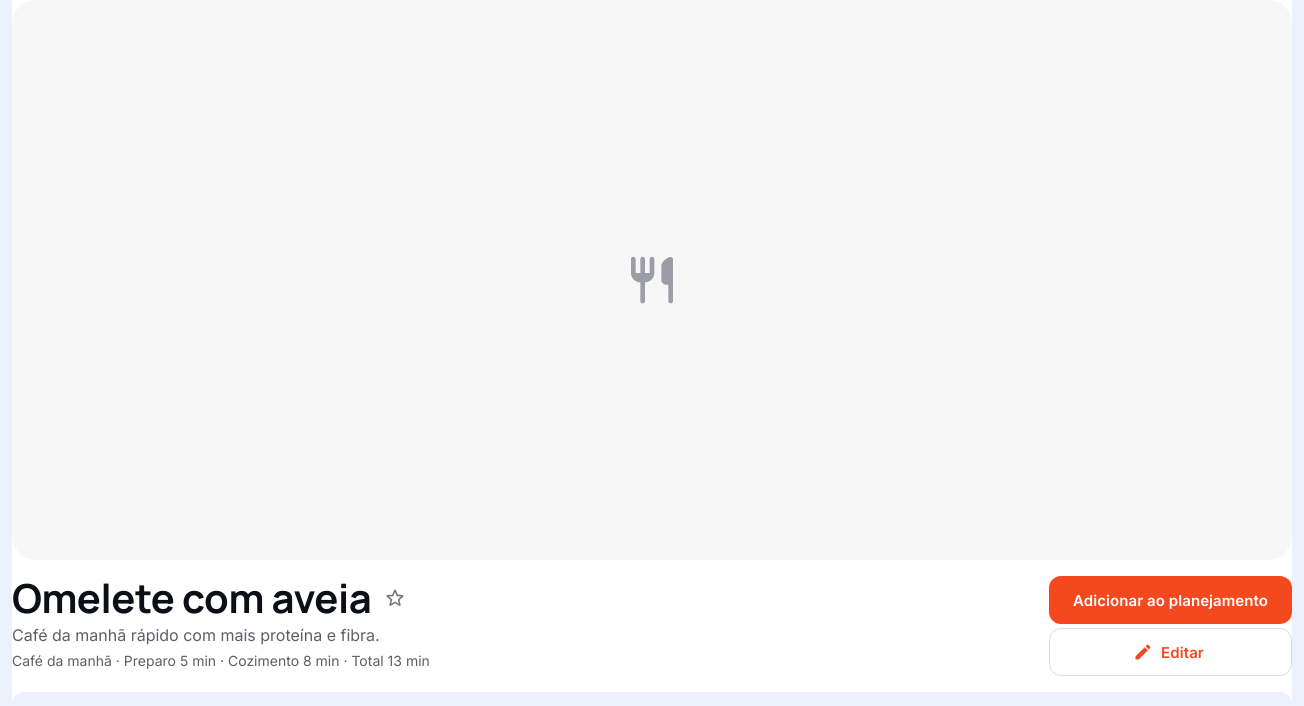
Test case: RecipeDetailPage › toggles favorite
expect the heading "Omelete com aveia" is shown: met, box x1=12 y1=576 x2=372 y2=621
Click the button named "Favoritar".
click(396, 598)  # box x1=376 y1=578 x2=416 y2=618
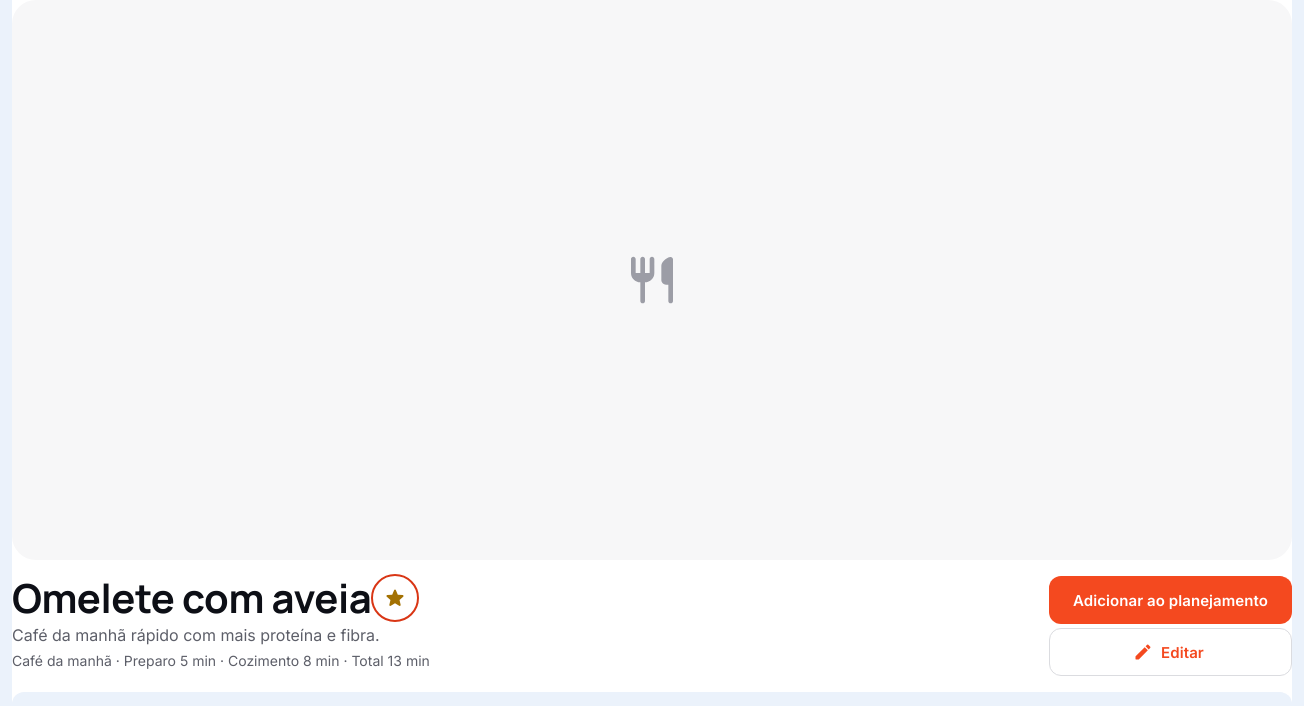
expect the button named "Remover dos favoritos" is shown: met, box x1=376 y1=578 x2=416 y2=618
